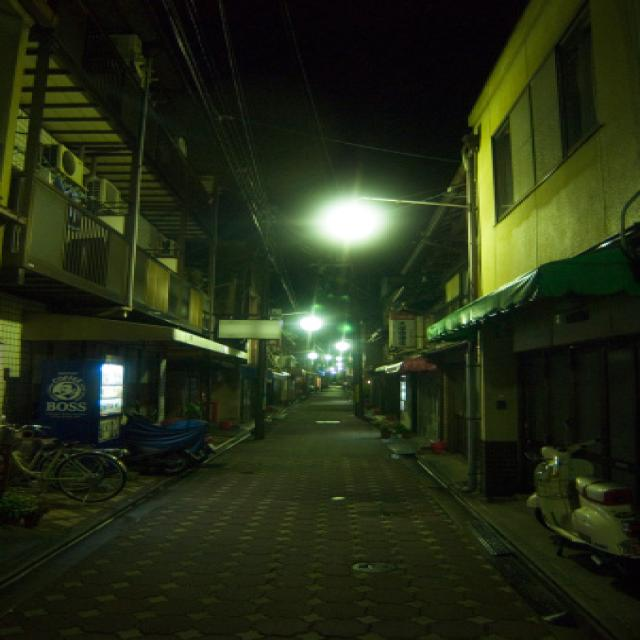Motorbike: (511, 439, 640, 588)
